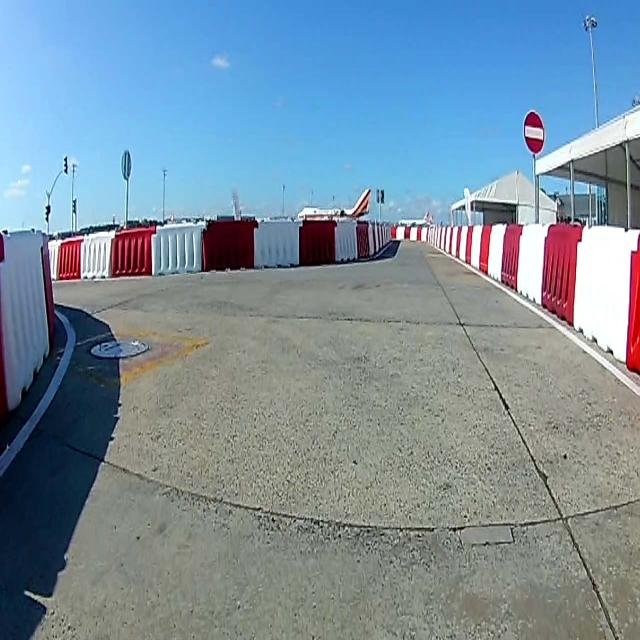girisyok: (523, 110, 545, 155)
